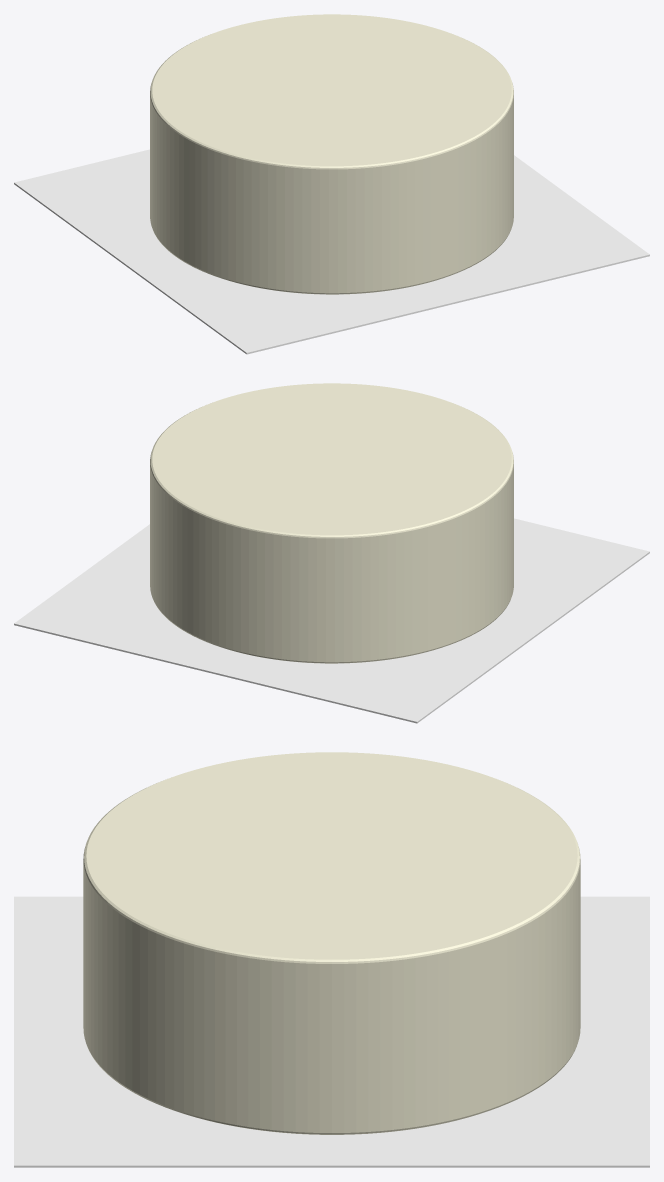
The model's file is cake_8in_layers2_v26.glb.
3 views of the same model, one above another, from view 1: azimuth 30°, elevation 25°; view 2: azimuth 150°, elevation 25°; view 3: azimuth 270°, elevation 25° (orthographic). The views are drawn at different scales.
Parts seen in each view (by area): view 1: Cake, Board; view 2: Cake, Board; view 3: Cake, Board.
Part boxes in pixels (box(x1,y1,x2,y2)): Cake: box(150, 14, 513, 294); Board: box(14, 149, 649, 354); Cake: box(150, 383, 513, 663); Board: box(14, 518, 649, 723); Cake: box(83, 752, 580, 1134); Board: box(14, 896, 649, 1167).
Size of the model in its own units: 0.26 by 0.08 by 0.26.
